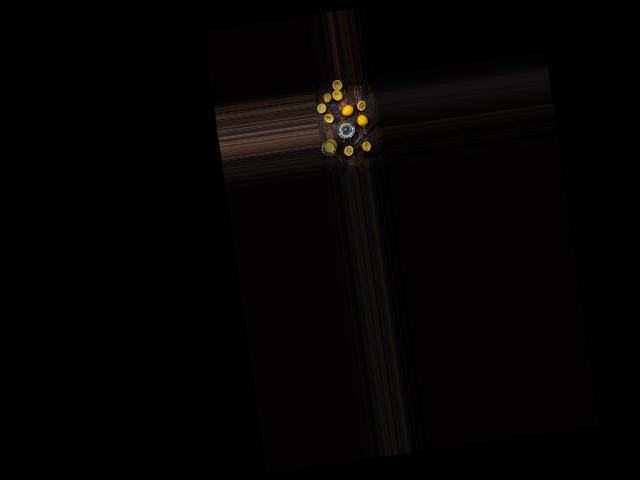lemon: (354, 109, 368, 128)
